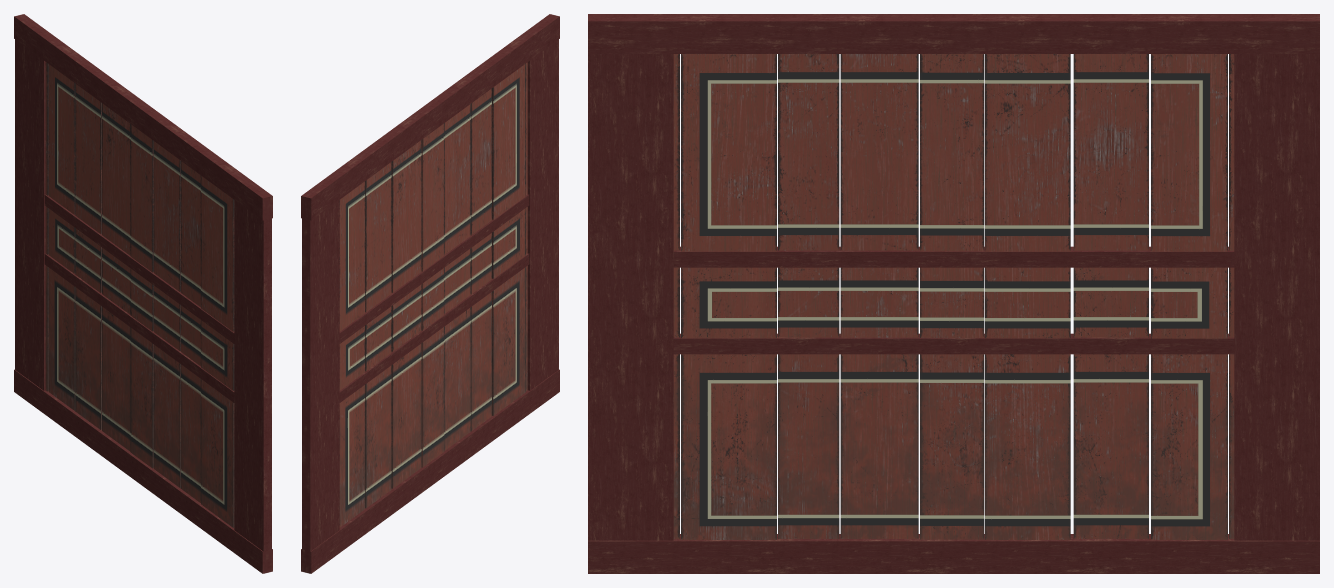
File: SM_Wall01a.fbx
3 renders of one model, left to right at view 1: azimuth 30°, elevation 25°; view 2: azimuth 150°, elevation 25°; view 3: azimuth 270°, elevation 25°, orthographic. The views are drawn at different scales.
Parts seen in each view (by area): view 1: SM_Wall01a; view 2: SM_Wall01a; view 3: SM_Wall01a.
Part boxes in pixels (x1=…): SM_Wall01a: x1=14, y1=14, x2=272, y2=573; SM_Wall01a: x1=301, y1=14, x2=559, y2=573; SM_Wall01a: x1=588, y1=14, x2=1319, y2=573.
Bounding box in the file's own units: 7 × 300 × 250.
2 materials, 2 textured.
